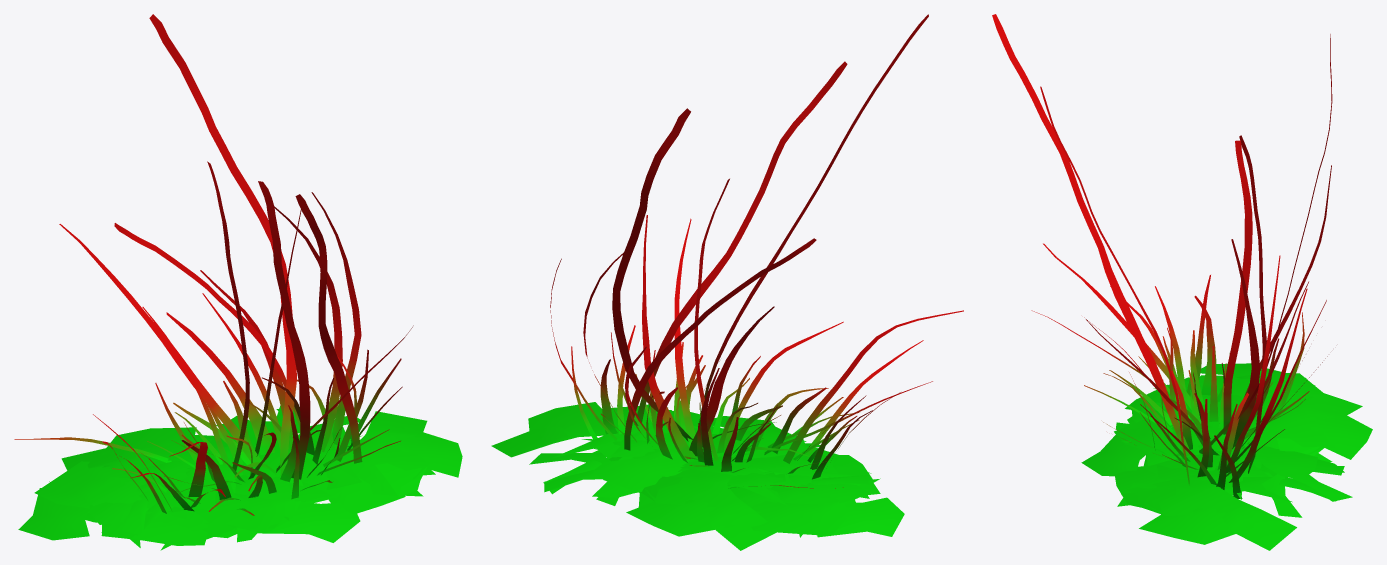
File: Var8_LOD0.fbx
3 renders of one model, left to right at view 1: azimuth 30°, elevation 25°; view 2: azimuth 150°, elevation 25°; view 3: azimuth 270°, elevation 25°, orthographic. The views are drawn at different scales.
Parts seen in each view (by area): view 1: _b4lg_Var8_LOD0; view 2: _b4lg_Var8_LOD0; view 3: _b4lg_Var8_LOD0.
Part boxes in pixels (left/top/right/bottom): _b4lg_Var8_LOD0: left=14, top=14, right=462, bottom=550; _b4lg_Var8_LOD0: left=491, top=14, right=963, bottom=550; _b4lg_Var8_LOD0: left=992, top=14, right=1372, bottom=550.
Size of the model in its own units: 88.9 by 90.07 by 75.92.
